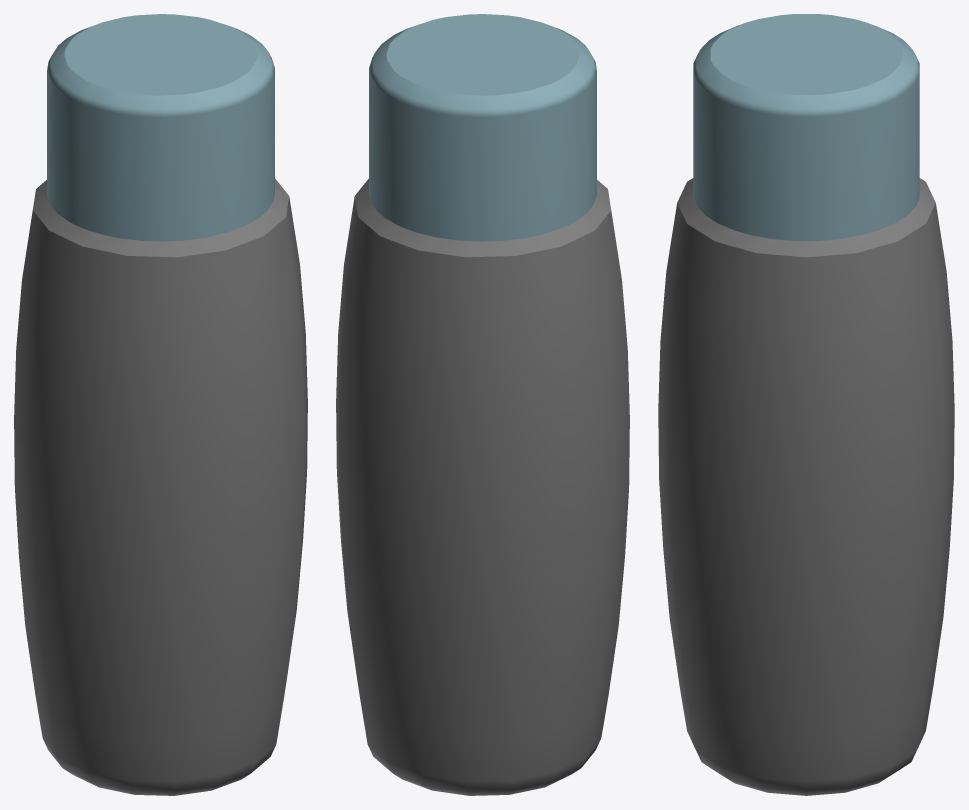
Rendered from Makeup_Bottle1.fbx.
3 views of the same model, side by side, from view 1: azimuth 30°, elevation 25°; view 2: azimuth 150°, elevation 25°; view 3: azimuth 270°, elevation 25° (orthographic).
Parts seen in each view (by area): view 1: Makeup_Bottle1; view 2: Makeup_Bottle1; view 3: Makeup_Bottle1.
Boxes of the visible parts, x1,y1,x2,y2 form: Makeup_Bottle1: [14, 14, 307, 795]; Makeup_Bottle1: [336, 14, 629, 795]; Makeup_Bottle1: [658, 14, 954, 795].
Bounding box in the file's own units: 0.3546 × 0.9263 × 0.3546.
